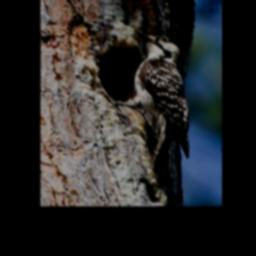Woodpecker: (113, 26, 196, 188)
